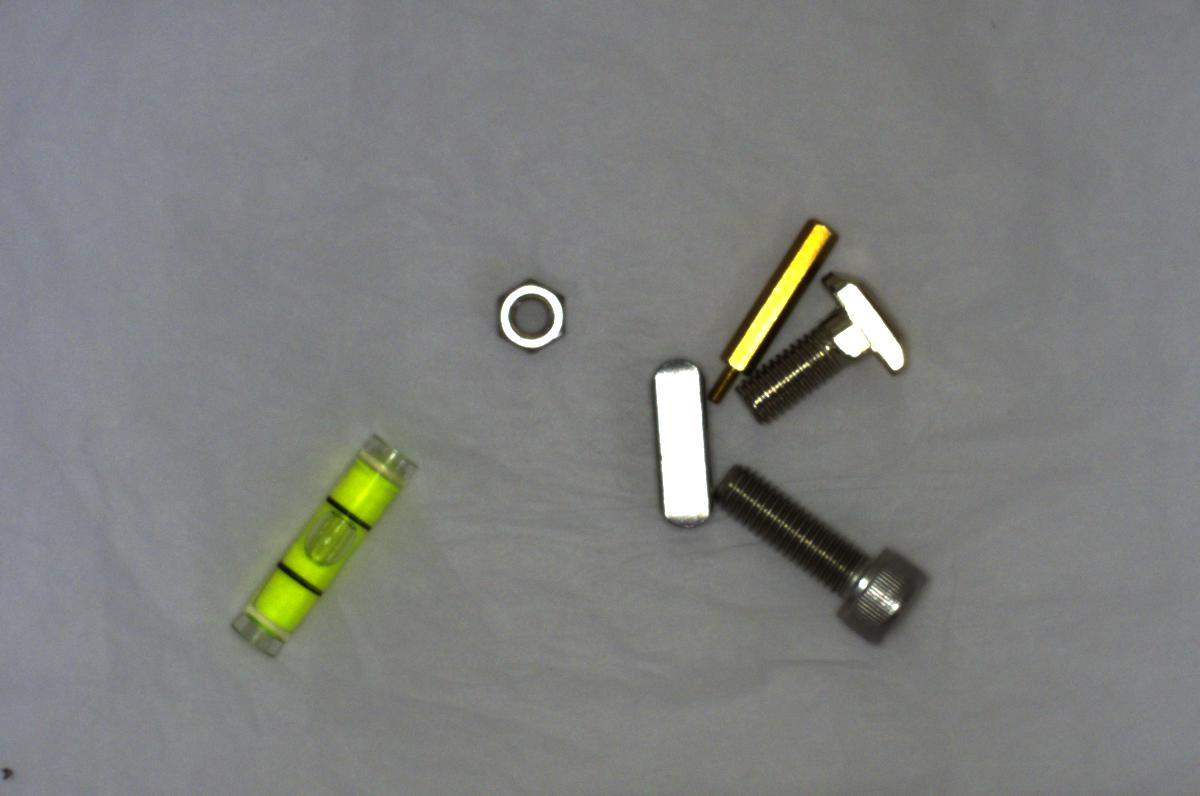Hexagon nut: (479, 268, 579, 363)
Hexagon pillar: (701, 212, 844, 417)
Hexagon screw: (701, 458, 934, 655)
Horizontal bubble: (217, 419, 421, 663)
Keybar: (639, 348, 724, 540)
T-shaped screw: (723, 264, 915, 439)
